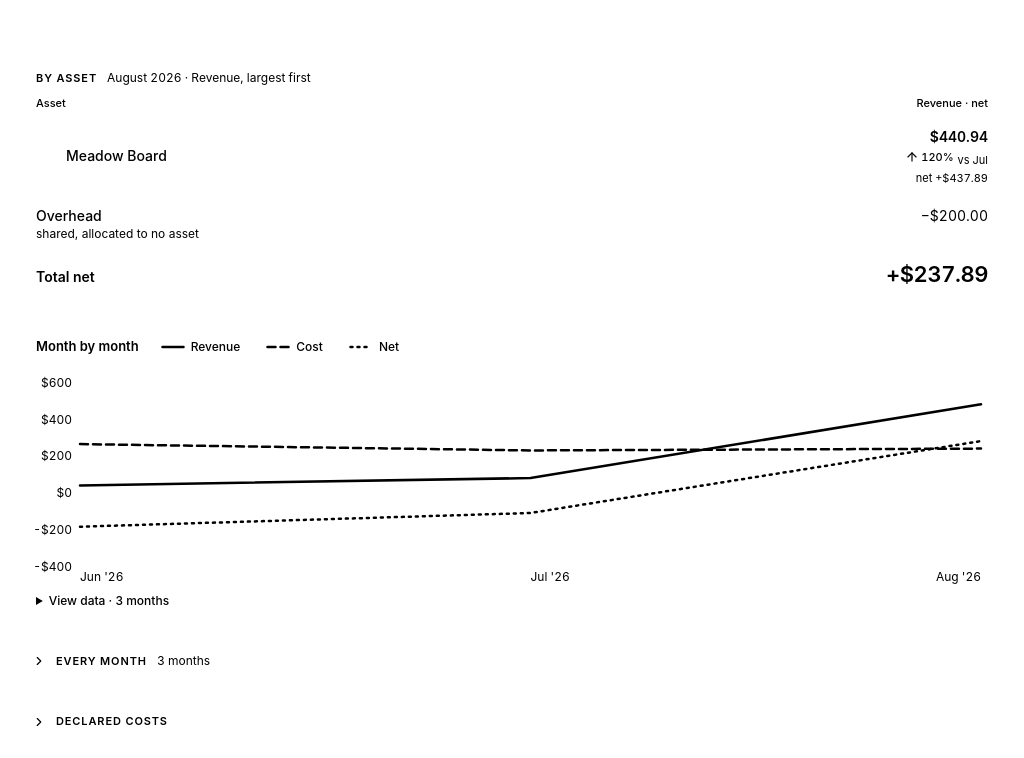
/financials — the first screen answers the whole question › preserves cents in chart point details and data while keeping the axis compact
This screenshot has width=1024, height=758.
(page scrolled)
Focus the element named "Explore Revenue and Cost and Net values" at {"x": 530, "y": 465}, box [80,365,981,565]
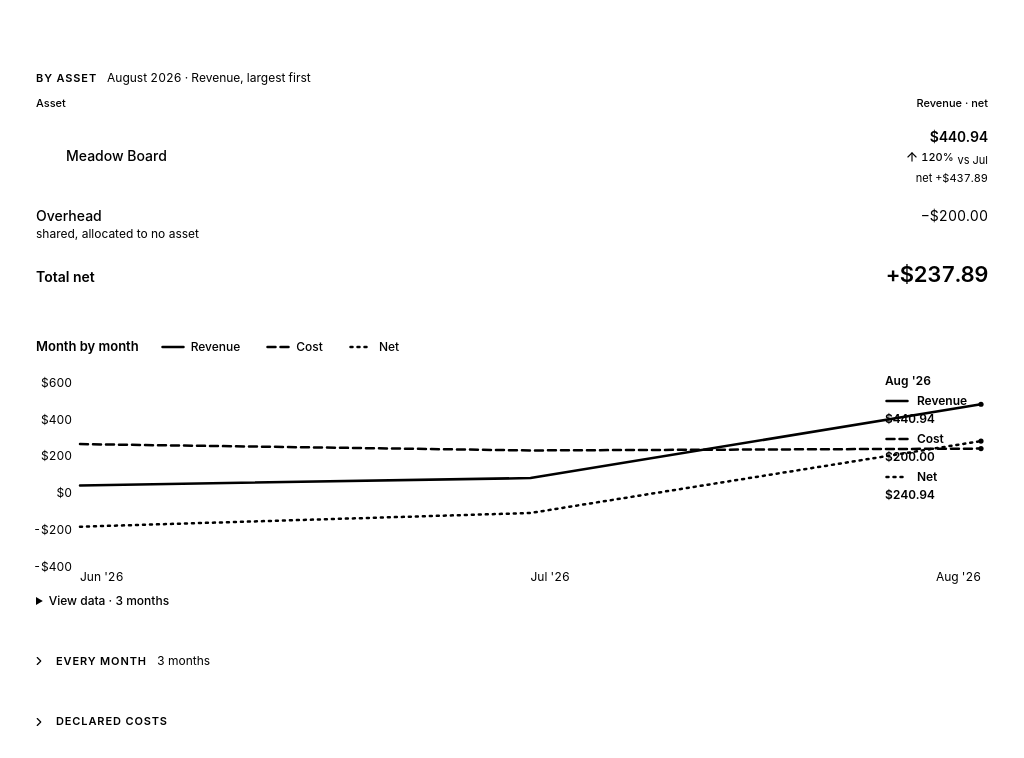
expect the 2nd text "$440.94" is shown: met, box [885,411,935,426]
expect the text "$200.00" is shown: met, box [885,449,935,464]
expect the text "$240.94" is shown: met, box [885,487,935,502]
Click the heading "View data · 3 months" at {"x": 103, "y": 601}, box [36,593,169,609]
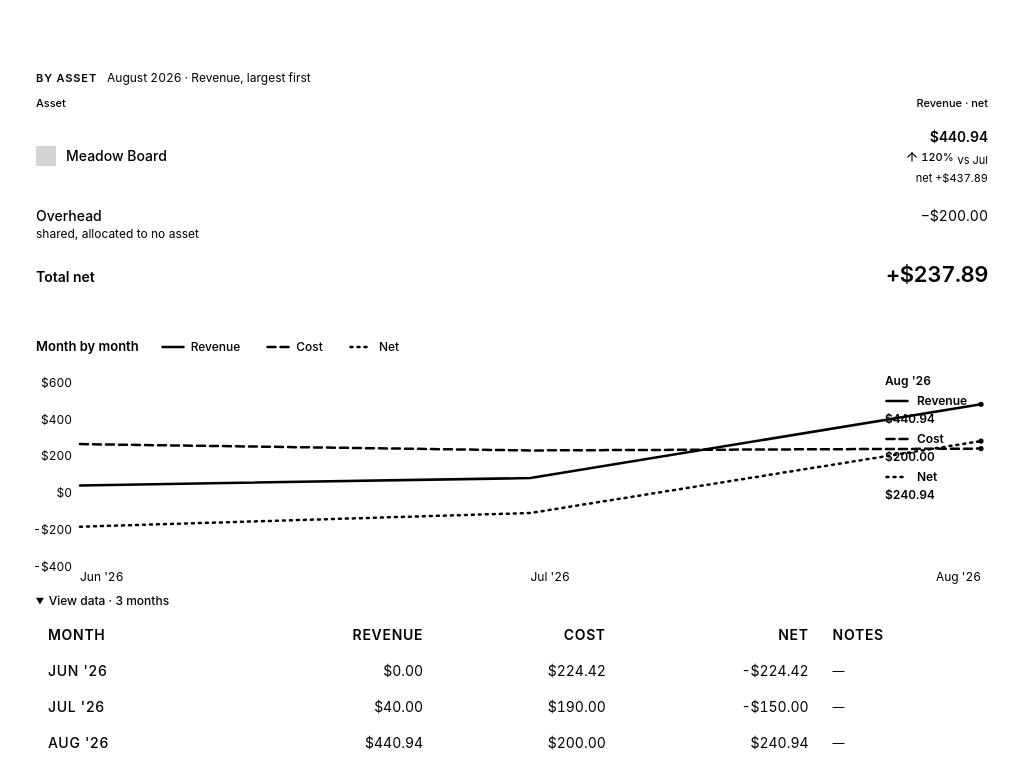
expect the text "-$224.42" is shown: met, box [618,653,821,689]
